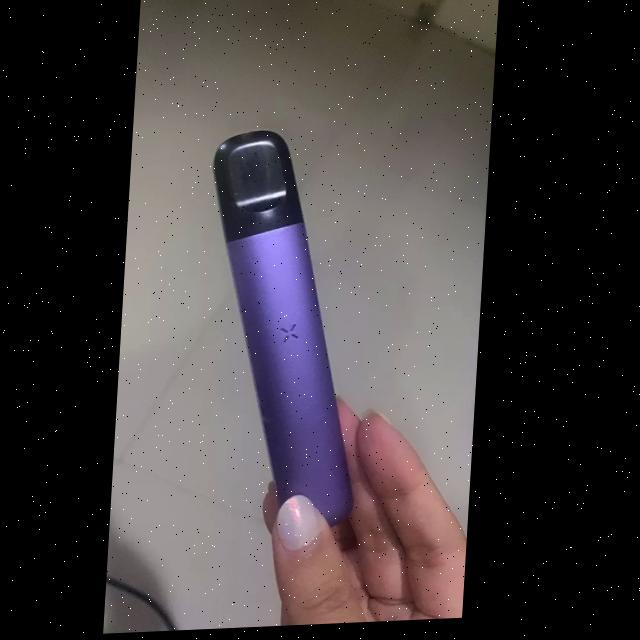vape: (196, 129, 374, 534)
